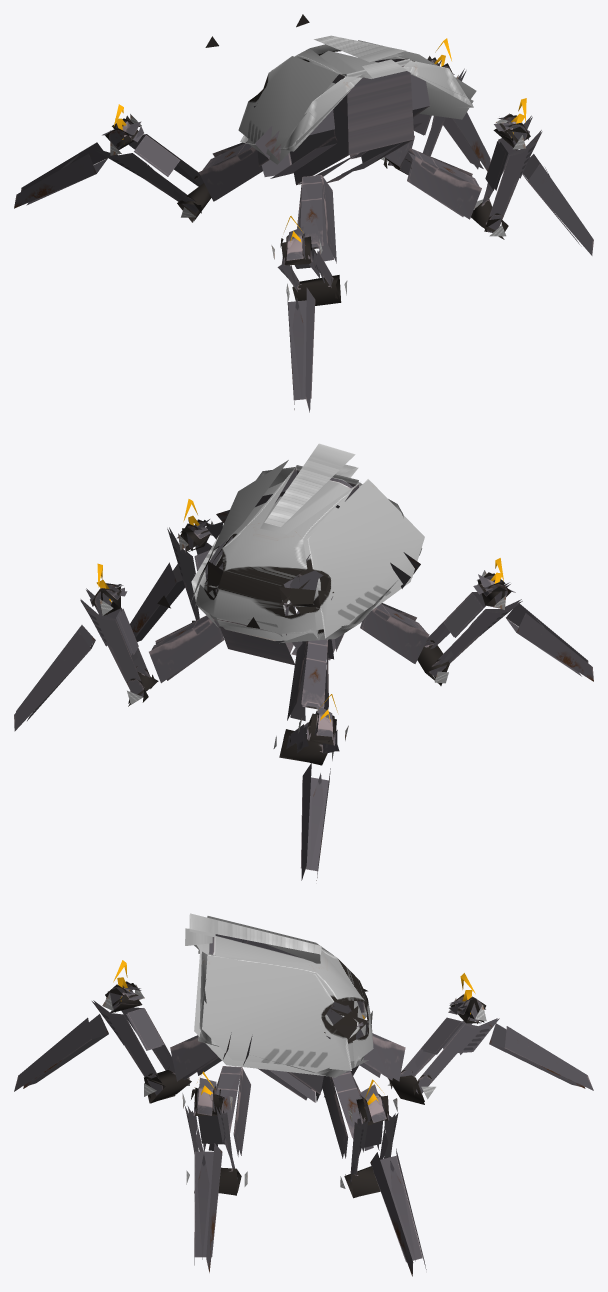
The model's file is robot_runner.glb.
3 views of the same model, one above another, from view 1: azimuth 30°, elevation 25°; view 2: azimuth 150°, elevation 25°; view 3: azimuth 270°, elevation 25° (orthographic).
Visible parts, largest first — view 1: robot_runner; view 2: robot_runner; view 3: robot_runner.
Boxes of the visible parts, left/top/right/bottom form: robot_runner: left=14, top=14, right=593, bottom=412; robot_runner: left=14, top=443, right=593, bottom=880; robot_runner: left=14, top=913, right=593, bottom=1276.
Bounding box in the file's own units: 0.9726 × 0.6072 × 1.25.
Materials: 1 (1 with a texture image).
